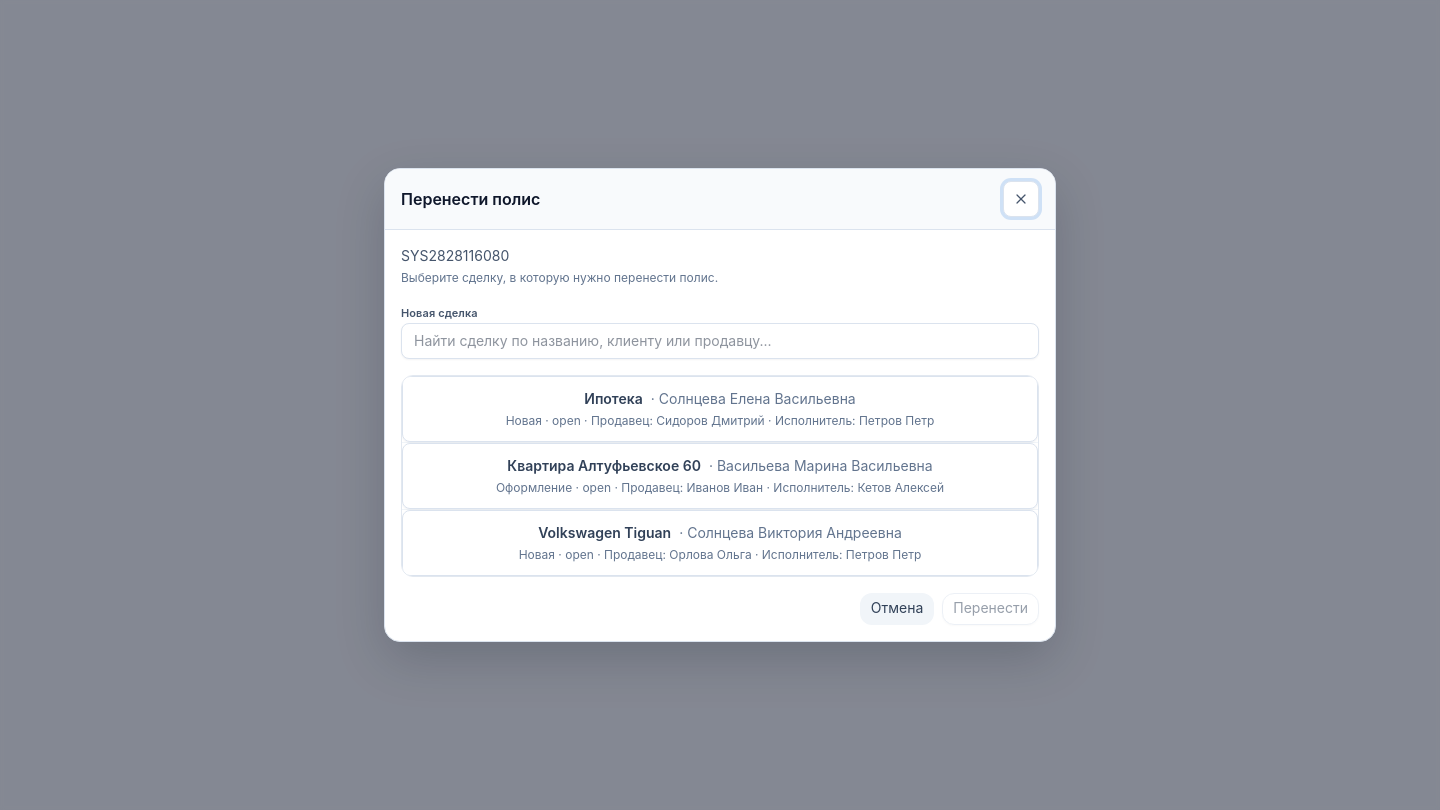
Test: PolicyMoveDialog › shows an empty search state
In the field with placeholder "Найти сделку по названию, клиенту или продавцу...": (720, 341) x1=401 y1=323 x2=1039 y2=359, type "нет такой сделки"
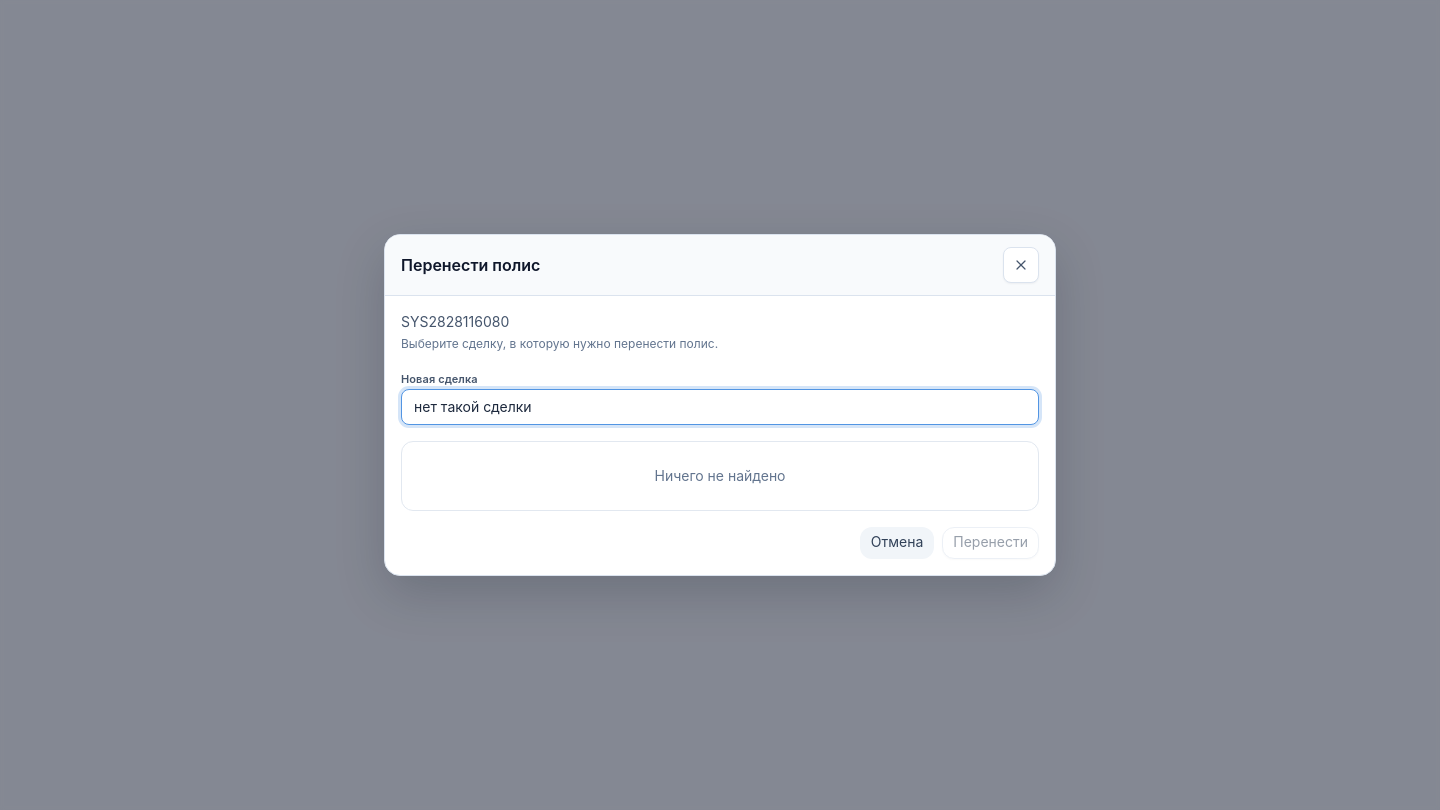
Result: the text "Ничего не найдено" is shown at x1=654 y1=467 x2=786 y2=484
